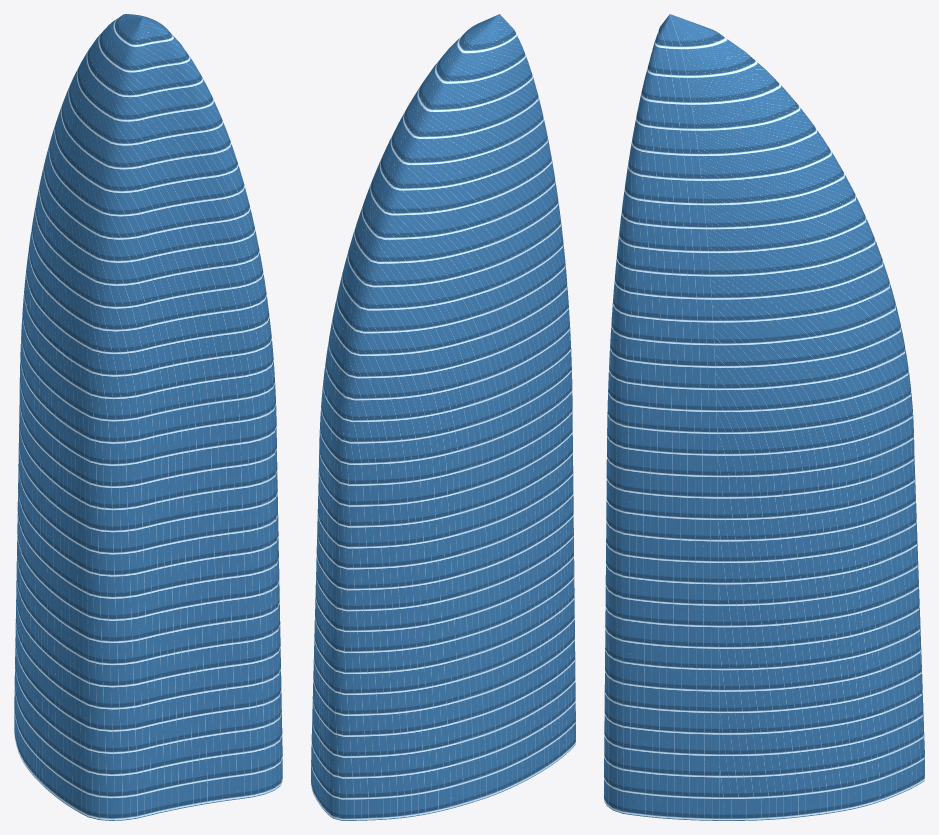
Rendered from landmark-flame-tower-3.glb.
3 views of the same model, side by side, from view 1: azimuth 30°, elevation 25°; view 2: azimuth 150°, elevation 25°; view 3: azimuth 270°, elevation 25° (orthographic). The views are drawn at different scales.
Visible parts, largest first — view 1: flame-tower-3; view 2: flame-tower-3; view 3: flame-tower-3.
Part boxes in pixels (left/top/right/bottom): flame-tower-3: left=14, top=14, right=282, bottom=820; flame-tower-3: left=311, top=14, right=575, bottom=820; flame-tower-3: left=604, top=14, right=924, bottom=820.
Size of the model in its own units: 44.89 by 164 by 63.95.
1 material, 1 textured.
